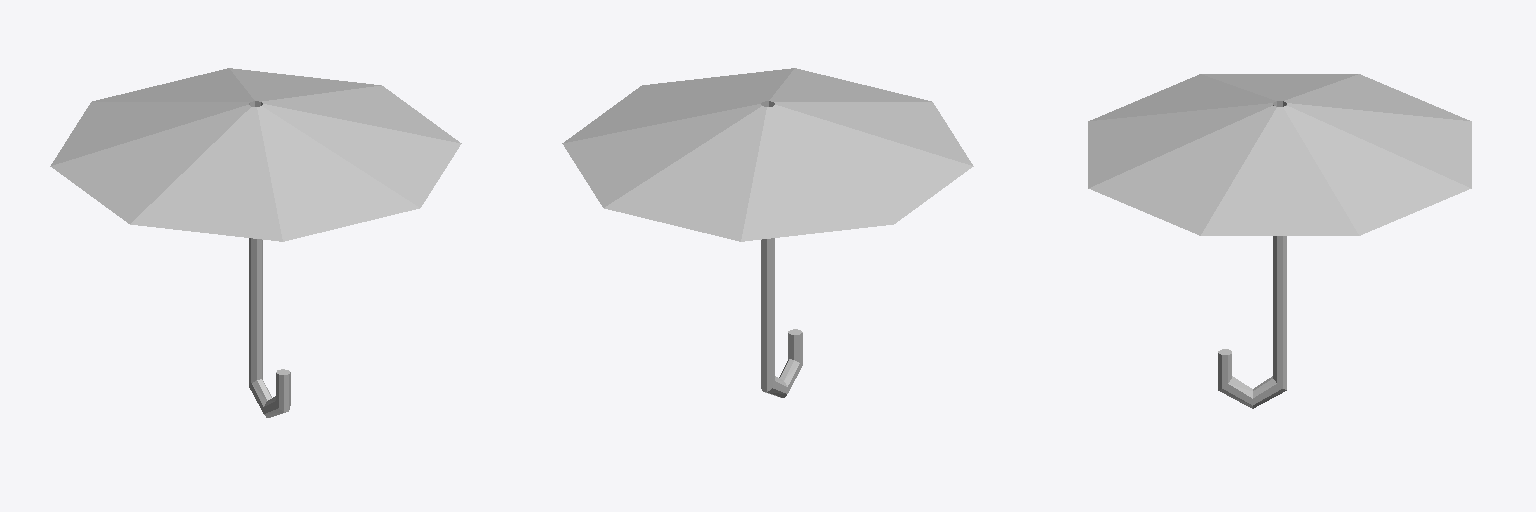
Rendered from umbrella.obj.
The picture shows the model from 3 angles: view 1: azimuth 30°, elevation 25°; view 2: azimuth 150°, elevation 25°; view 3: azimuth 270°, elevation 25°; orthographic projection.
Parts seen in each view (by area): view 1: panels_Cube.005, stick_Cube.004; view 2: panels_Cube.005, stick_Cube.004; view 3: panels_Cube.005, stick_Cube.004.
Boxes of the visible parts, <box> form: panels_Cube.005: <box>50,68,461,241</box>; stick_Cube.004: <box>249,101,290,417</box>; panels_Cube.005: <box>562,68,973,241</box>; stick_Cube.004: <box>761,101,802,397</box>; panels_Cube.005: <box>1088,74,1471,235</box>; stick_Cube.004: <box>1218,101,1286,408</box>.
Size of the model in its own units: 25.29 by 22.12 by 25.29.